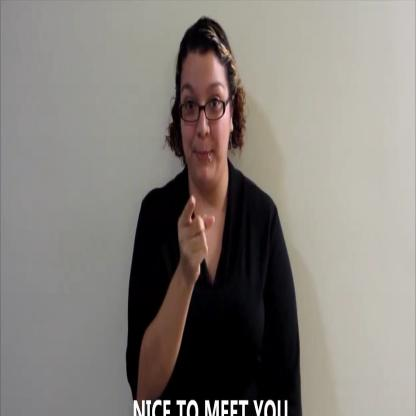NiceToMeetYou: (168, 192, 222, 292)
